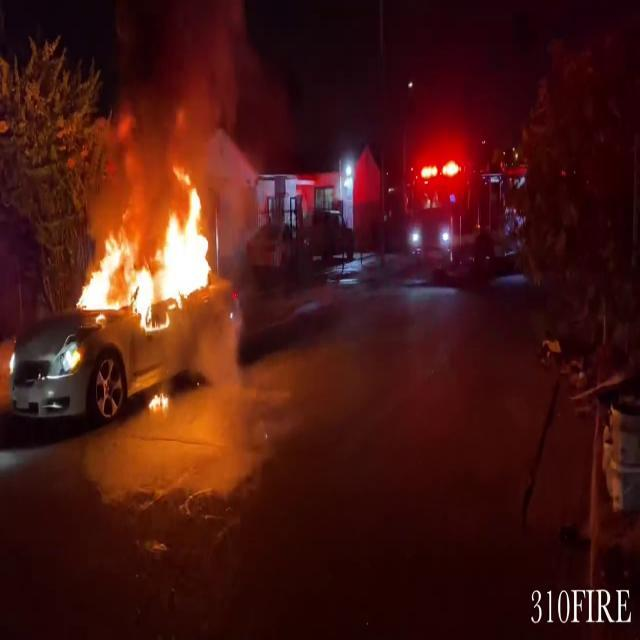Fire: (73, 158, 223, 330)
Smoke: (106, 0, 277, 205)
